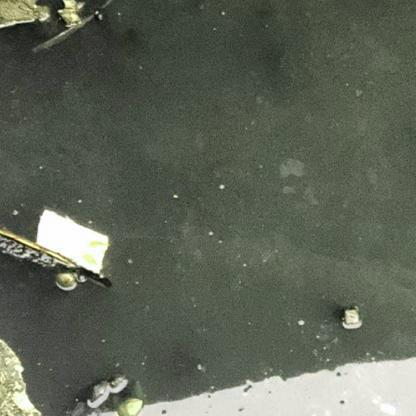Trash: (34, 206, 115, 270)
